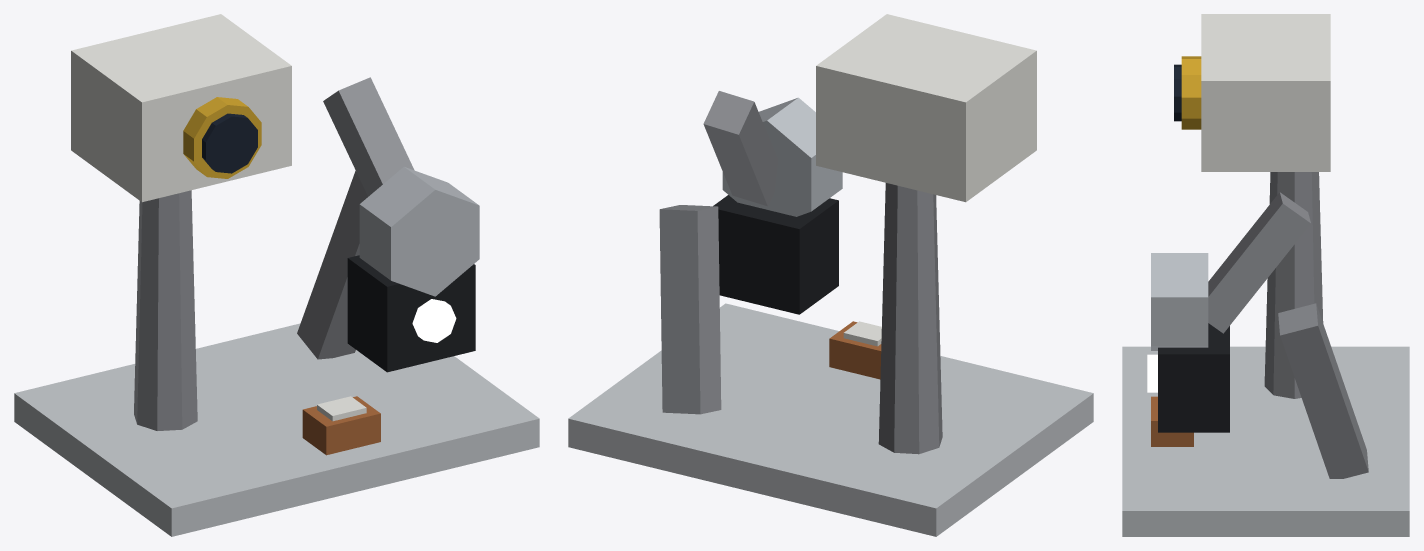
The model's file is sci-pixl-sherloc-supercam.glb.
3 renders of one model, left to right at view 1: azimuth 30°, elevation 25°; view 2: azimuth 150°, elevation 25°; view 3: azimuth 270°, elevation 25°, orthographic. The views are drawn at different scales.
Visible parts, largest first — view 1: SciPixlSherlocSupercam_Aluminum, SciPixlSherlocSupercam_Hull, SciPixlSherlocSupercam_Titanium, SciPixlSherlocSupercam_Steel, SciPixlSherlocSupercam_HullBlack, SciPixlSherlocSupercam_Copper, SciPixlSherlocSupercam_Visor, SciPixlSherlocSupercam_FoilGold, SciPixlSherlocSupercam_Lamp; view 2: SciPixlSherlocSupercam_Aluminum, SciPixlSherlocSupercam_Hull, SciPixlSherlocSupercam_Titanium, SciPixlSherlocSupercam_HullBlack, SciPixlSherlocSupercam_Steel, SciPixlSherlocSupercam_Copper; view 3: SciPixlSherlocSupercam_Aluminum, SciPixlSherlocSupercam_Titanium, SciPixlSherlocSupercam_Hull, SciPixlSherlocSupercam_HullBlack, SciPixlSherlocSupercam_Steel, SciPixlSherlocSupercam_FoilGold, SciPixlSherlocSupercam_Copper, SciPixlSherlocSupercam_Visor, SciPixlSherlocSupercam_Lamp.
Part boxes in pixels (left/top/right/bottom): SciPixlSherlocSupercam_Aluminum: left=14, top=323, right=539, bottom=536; SciPixlSherlocSupercam_Hull: left=71, top=14, right=366, bottom=421; SciPixlSherlocSupercam_Titanium: left=134, top=77, right=414, bottom=430; SciPixlSherlocSupercam_Steel: left=359, top=167, right=479, bottom=296; SciPixlSherlocSupercam_HullBlack: left=347, top=255, right=475, bottom=372; SciPixlSherlocSupercam_Copper: left=302, top=396, right=380, bottom=455; SciPixlSherlocSupercam_Visor: left=202, top=113, right=257, bottom=173; SciPixlSherlocSupercam_FoilGold: left=183, top=97, right=261, bottom=178; SciPixlSherlocSupercam_Lamp: left=412, top=299, right=456, bottom=342; SciPixlSherlocSupercam_Aluminum: left=568, top=303, right=1093, bottom=536; SciPixlSherlocSupercam_Hull: left=816, top=14, right=1036, bottom=346; SciPixlSherlocSupercam_Titanium: left=659, top=91, right=942, bottom=454; SciPixlSherlocSupercam_HullBlack: left=713, top=195, right=838, bottom=314; SciPixlSherlocSupercam_Steel: left=722, top=97, right=842, bottom=216; SciPixlSherlocSupercam_Copper: left=829, top=321, right=881, bottom=379; SciPixlSherlocSupercam_Aluminum: left=1122, top=346, right=1409, bottom=536; SciPixlSherlocSupercam_Titanium: left=1208, top=172, right=1368, bottom=478; SciPixlSherlocSupercam_Hull: left=1201, top=14, right=1330, bottom=171; SciPixlSherlocSupercam_HullBlack: left=1158, top=323, right=1229, bottom=432; SciPixlSherlocSupercam_Steel: left=1151, top=253, right=1208, bottom=350; SciPixlSherlocSupercam_FoilGold: left=1181, top=56, right=1201, bottom=129; SciPixlSherlocSupercam_Copper: left=1151, top=396, right=1193, bottom=446; SciPixlSherlocSupercam_Visor: left=1174, top=64, right=1181, bottom=121; SciPixlSherlocSupercam_Lamp: left=1147, top=354, right=1157, bottom=392.
Size of the model in its own units: 0.54 by 0.56 by 0.4.
